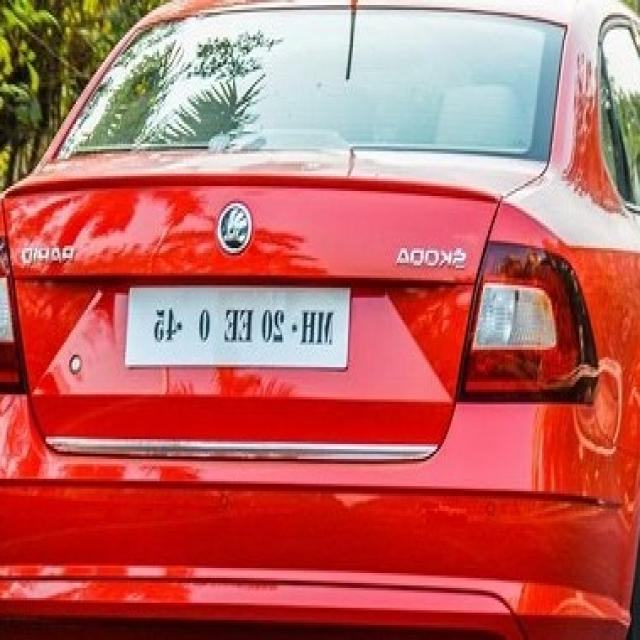number-plate: (134, 283, 352, 364)
